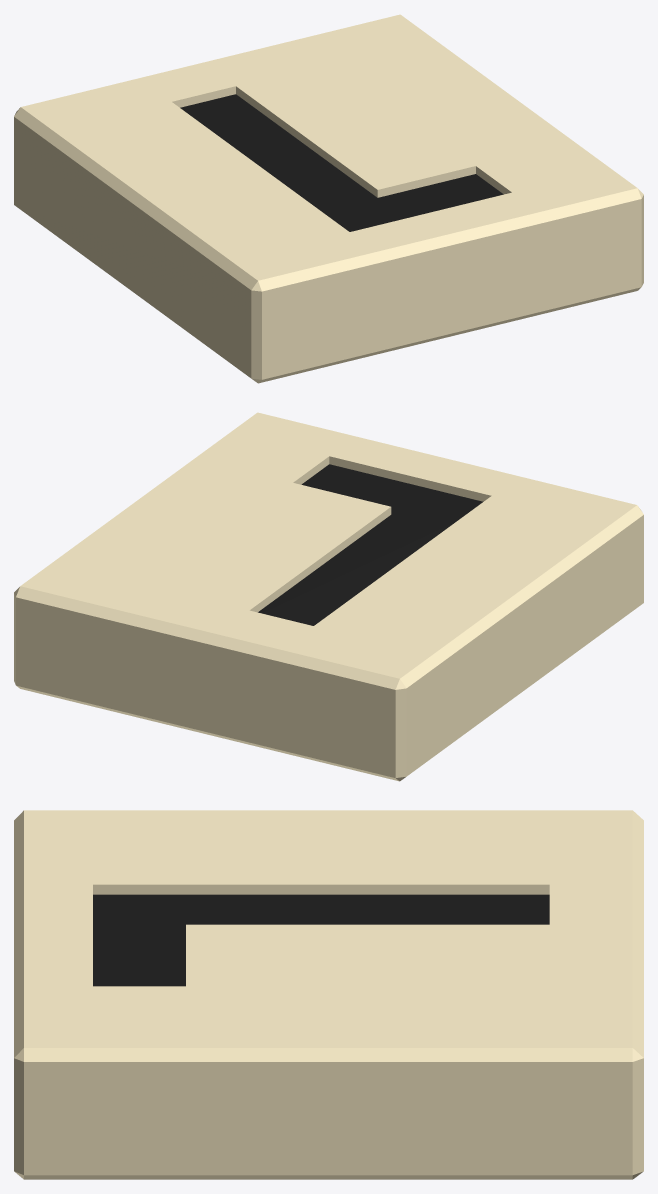
The model's file is Boardgame_Piece_Anagram_Letter_L_01.fbx.
The picture shows the model from 3 angles, top to bottom: view 1: azimuth 30°, elevation 25°; view 2: azimuth 150°, elevation 25°; view 3: azimuth 270°, elevation 25°; orthographic projection. The views are drawn at different scales.
Parts seen in each view (by area): view 1: Boardgame_Piece_Anagram_Letter_L_01; view 2: Boardgame_Piece_Anagram_Letter_L_01; view 3: Boardgame_Piece_Anagram_Letter_L_01.
Part boxes in pixels (<box>): Boardgame_Piece_Anagram_Letter_L_01: <box>14,14,643,383</box>; Boardgame_Piece_Anagram_Letter_L_01: <box>14,412,643,781</box>; Boardgame_Piece_Anagram_Letter_L_01: <box>14,810,643,1179</box>.
Bounding box in the file's own units: 39.37 × 9.84 × 42.65.
